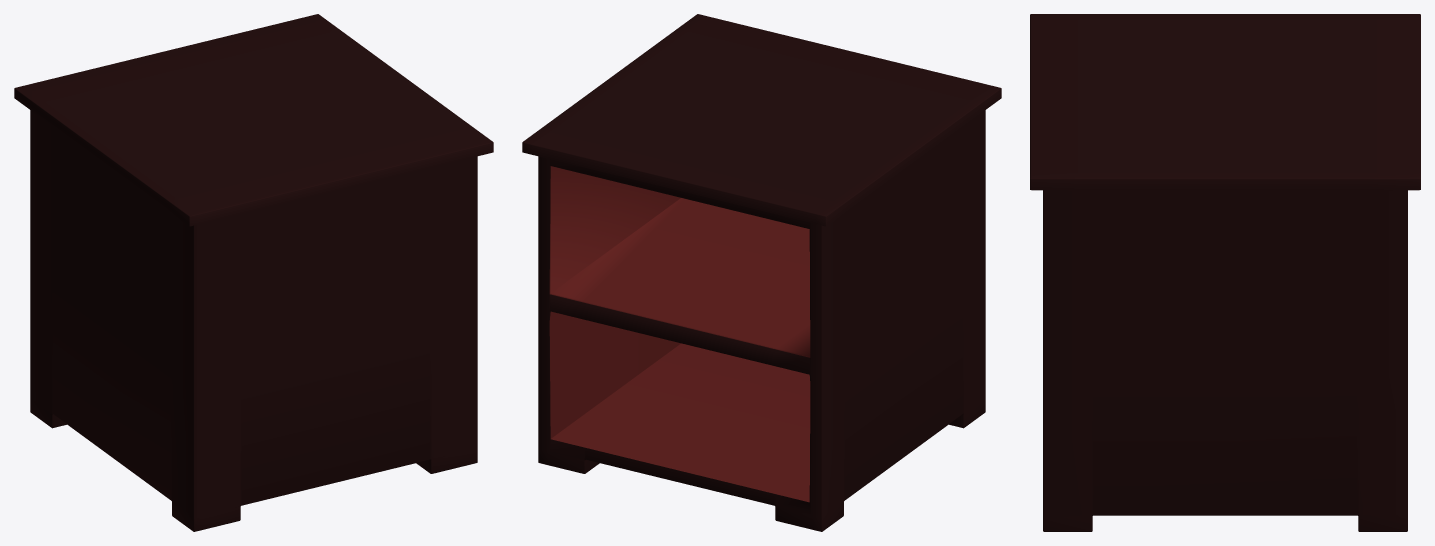
Rendered from BedsideTable.FBX.
The picture shows the model from 3 angles, left to right: view 1: azimuth 30°, elevation 25°; view 2: azimuth 150°, elevation 25°; view 3: azimuth 270°, elevation 25°; orthographic projection. The views are drawn at different scales.
Visible parts, largest first — view 1: BedsideTable; view 2: BedsideTable; view 3: BedsideTable.
Boxes of the visible parts, x1=… form: BedsideTable: x1=14, y1=14, x2=493, y2=531; BedsideTable: x1=522, y1=14, x2=1001, y2=531; BedsideTable: x1=1030, y1=14, x2=1420, y2=531.
Bounding box in the file's own units: 29.53 × 29.92 × 29.53.
